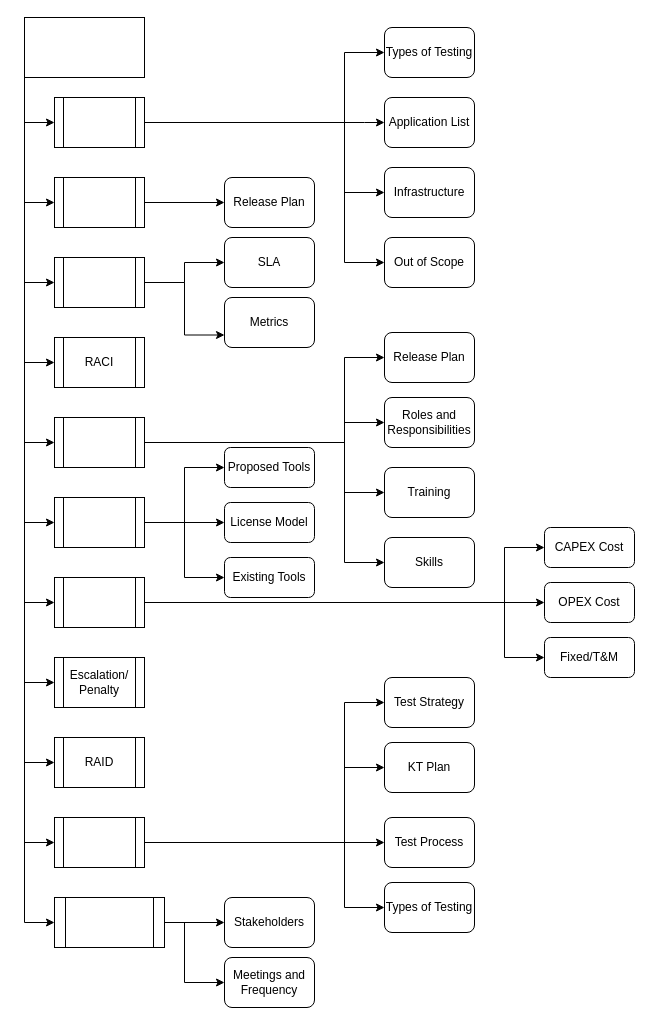
This 652x1025 diagram has some shape labels left out. The centre of each missing label's shape, as x and y in pixels:
Communication Plan: point (109, 922)
Cost: point (99, 602)
Deliverables: point (99, 842)
KPIs: point (99, 282)
Schedule: point (99, 202)
Scope: point (99, 122)
Staffing: point (99, 442)
Statement of Work: point (84, 47)
Tooling: point (99, 522)
